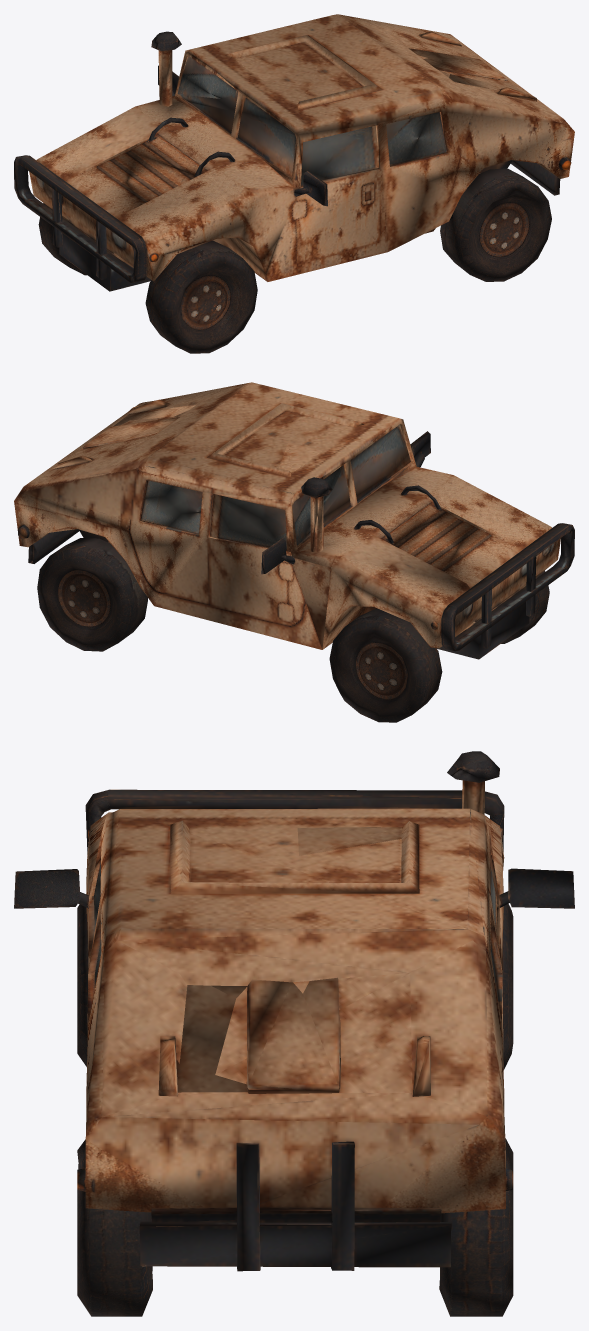
Rendered from Meshy_AI_Rustbound_Warhorse_0831101244_texture.fbx.
The picture shows the model from 3 angles, top to bottom: view 1: azimuth 30°, elevation 25°; view 2: azimuth 150°, elevation 25°; view 3: azimuth 270°, elevation 25°; orthographic projection. The views are drawn at different scales.
Parts seen in each view (by area): view 1: mesh_node; view 2: mesh_node; view 3: mesh_node.
Boxes of the visible parts, x1,y1,x2,y2 form: mesh_node: (14, 14, 574, 353); mesh_node: (14, 382, 574, 722); mesh_node: (14, 751, 574, 1316).
Bounding box in the file's own units: 100 × 47.75 × 65.82.
1 material, 1 textured.
